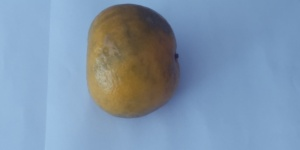BAD: (86, 3, 180, 120)
